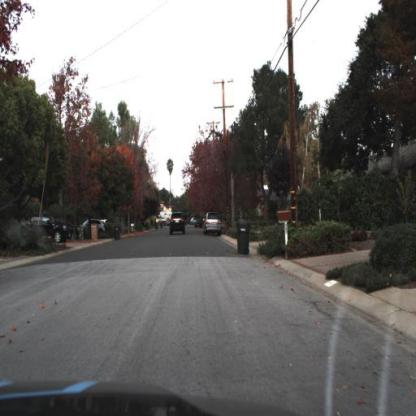car: (30, 213, 71, 249), (168, 210, 189, 241), (204, 211, 223, 235), (82, 220, 107, 236), (195, 220, 203, 230)
